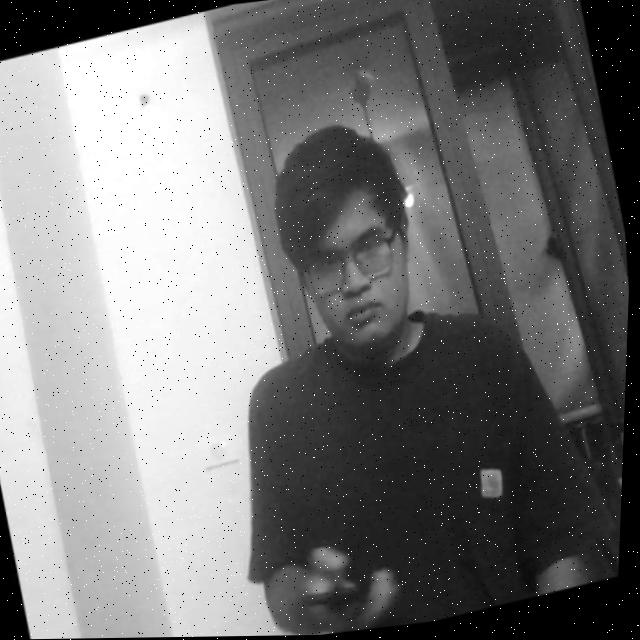phone: (289, 540, 406, 636)
